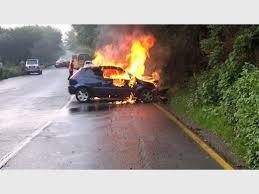fire: (90, 34, 158, 87)
